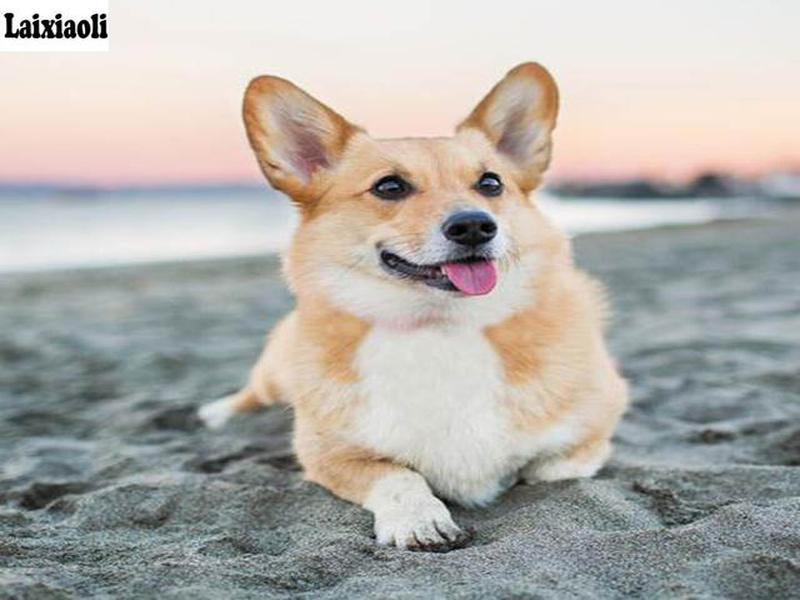corgi: (242, 60, 562, 299)
